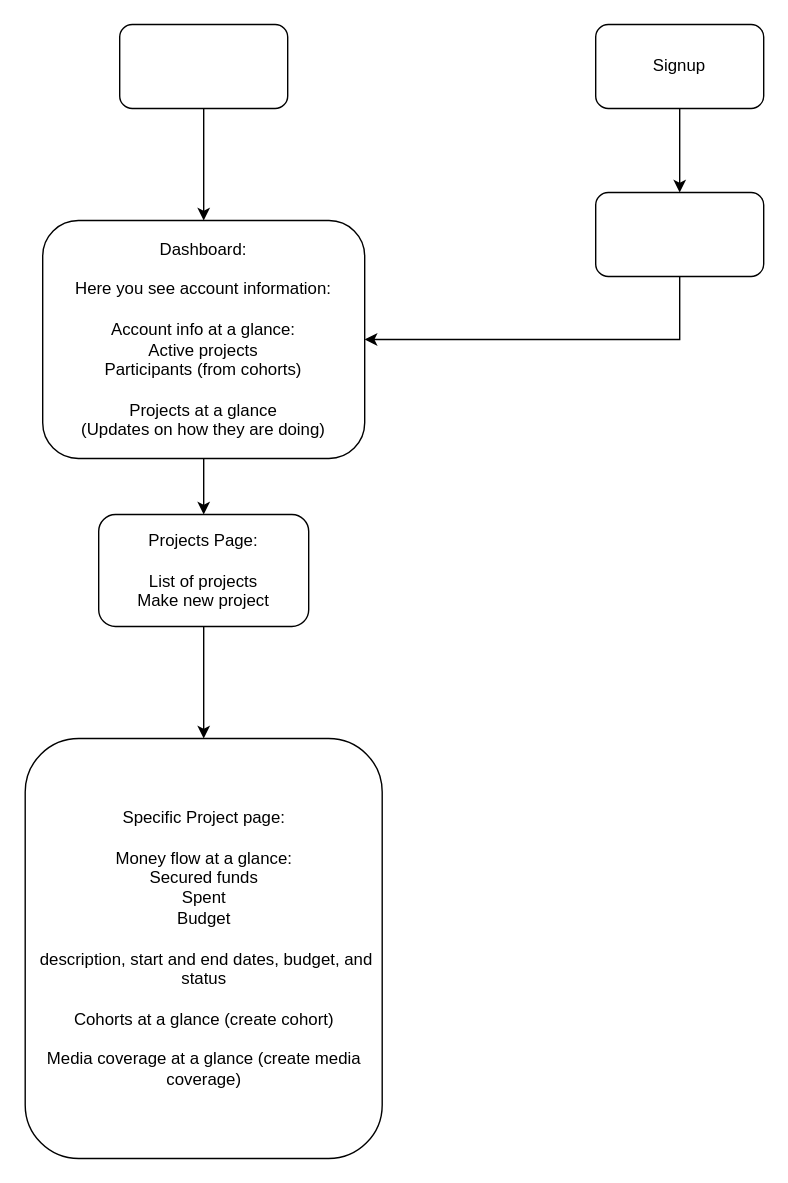
Some shapes in this 788 by 1183 pixel diagram are drawn without their labels. The shapes that lost their labels are listed below. From the top down, each one's centre as x and y in pixels, then its label:
At point 203,65: "Login".
At point 679,233: "Either join an organisation or create one".
